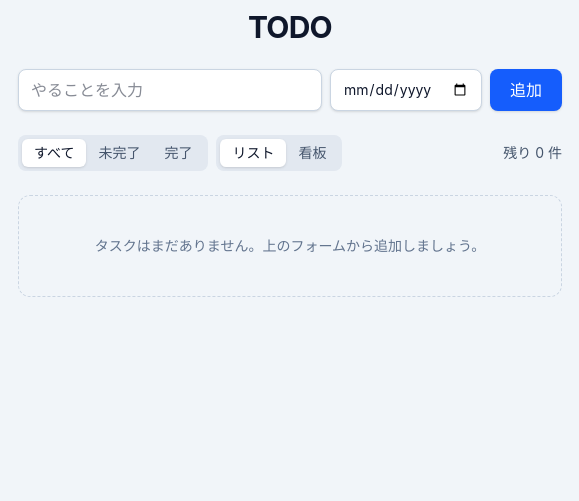
Test: App › タスクを追加すると一覧と残り件数に反映される
The image size is (579, 501).
Type "A" into the field labelled "やること" at (170, 90), box [18, 69, 322, 111]
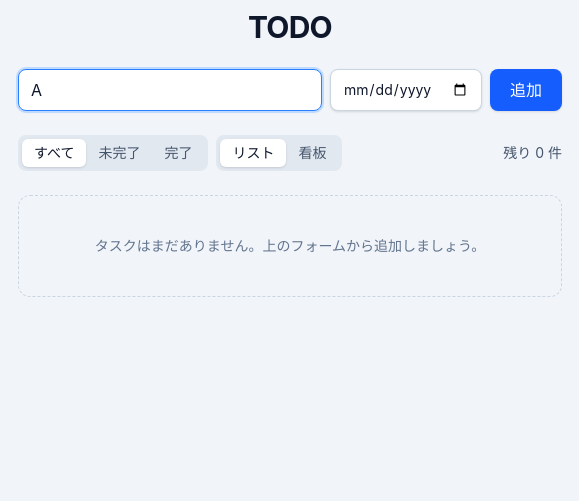
Click the button "追加" at (526, 90), box [490, 69, 562, 111]
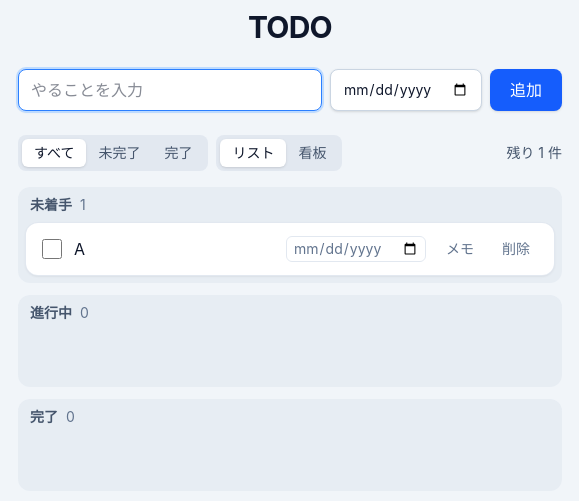
Type "B" into the field labelled "やること" at (170, 90), box [18, 69, 322, 111]
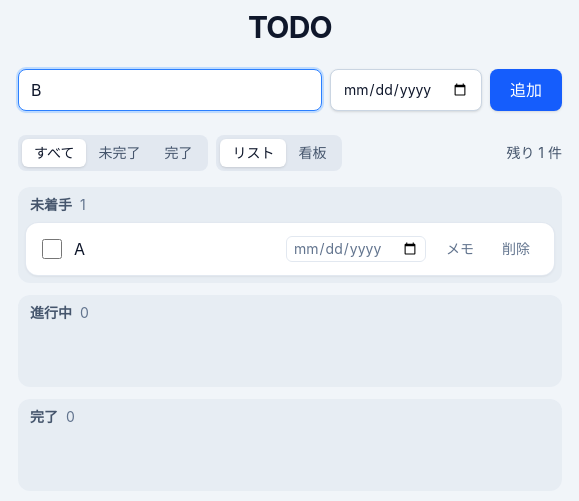
Click the button "追加" at (526, 90), box [490, 69, 562, 111]
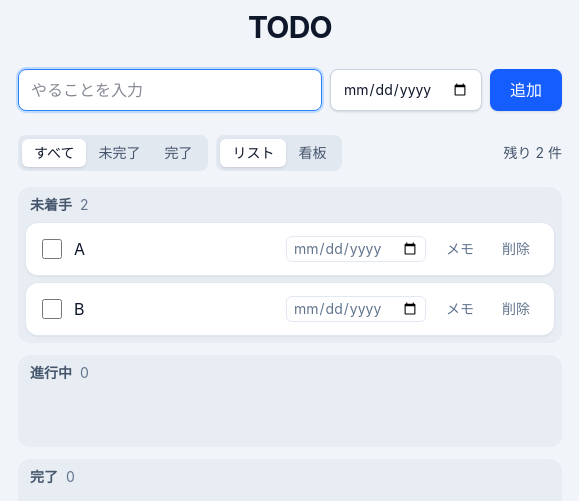
Result: the number of list items is 2 at [26, 223, 554, 275]; [26, 283, 554, 335]
Result: the text "残り 2 件" is shown at [504, 143, 562, 163]
